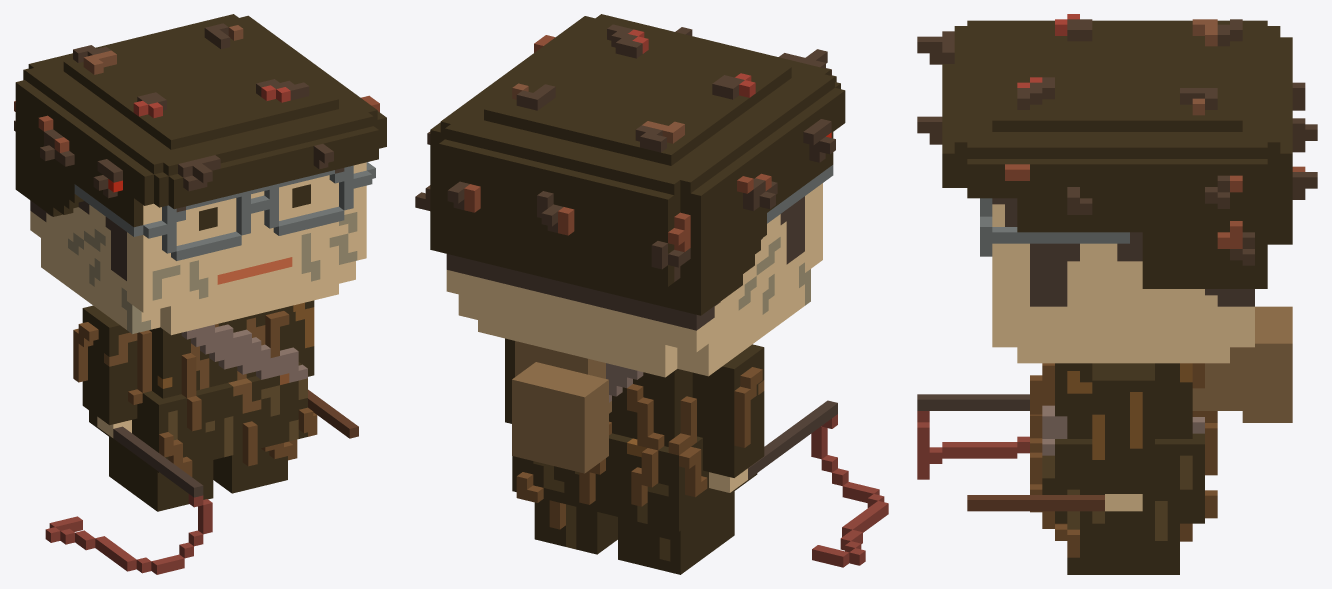
Rendered from Dwight-wild.obj.
The picture shows the model from 3 angles, left to right: view 1: azimuth 30°, elevation 25°; view 2: azimuth 150°, elevation 25°; view 3: azimuth 270°, elevation 25°; orthographic projection. The views are drawn at different scales.
Size of the model in its own units: 3.4 by 4.2 by 3.2.
Materials: 1 (1 with a texture image).
